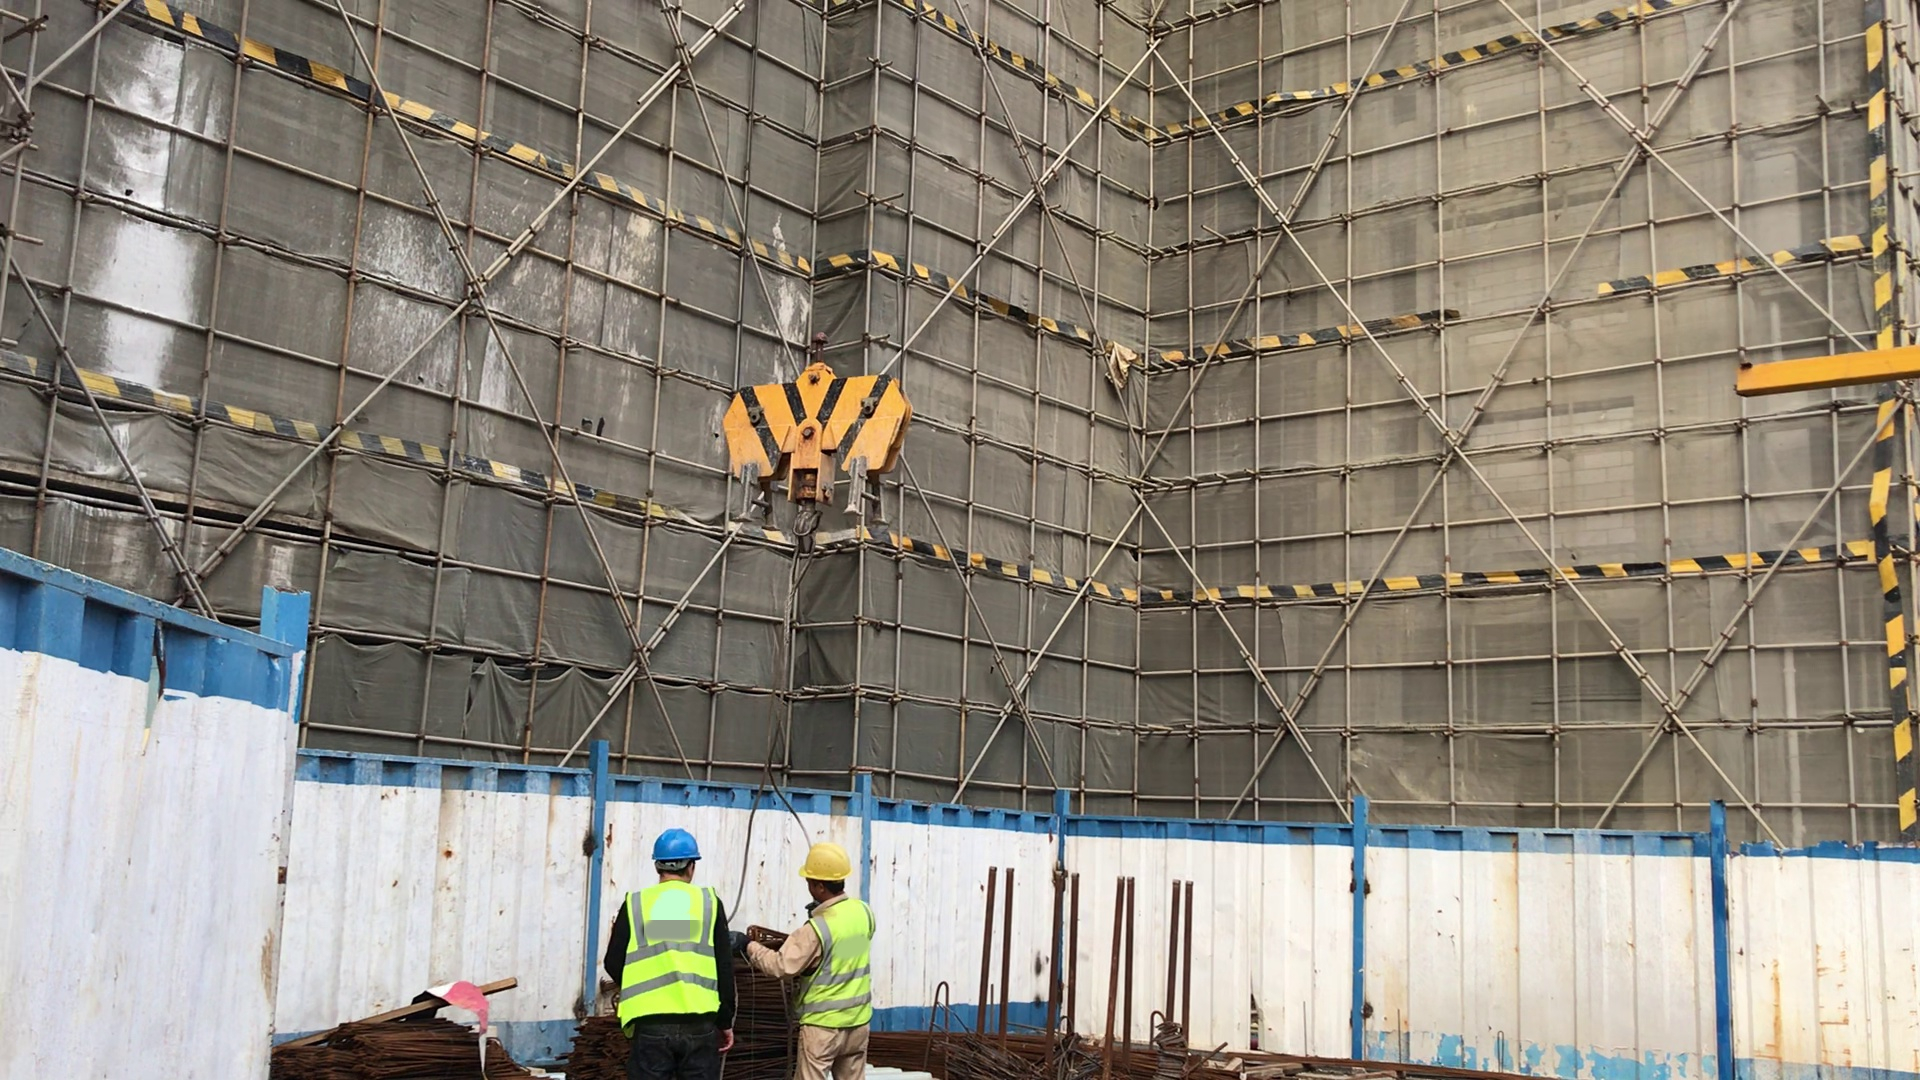helmet: (645, 827, 706, 865), (799, 839, 852, 879)
hook: (727, 344, 934, 535)
person: (585, 815, 759, 1069), (750, 838, 906, 1080)
vest: (611, 882, 723, 1023), (792, 903, 875, 1027)
